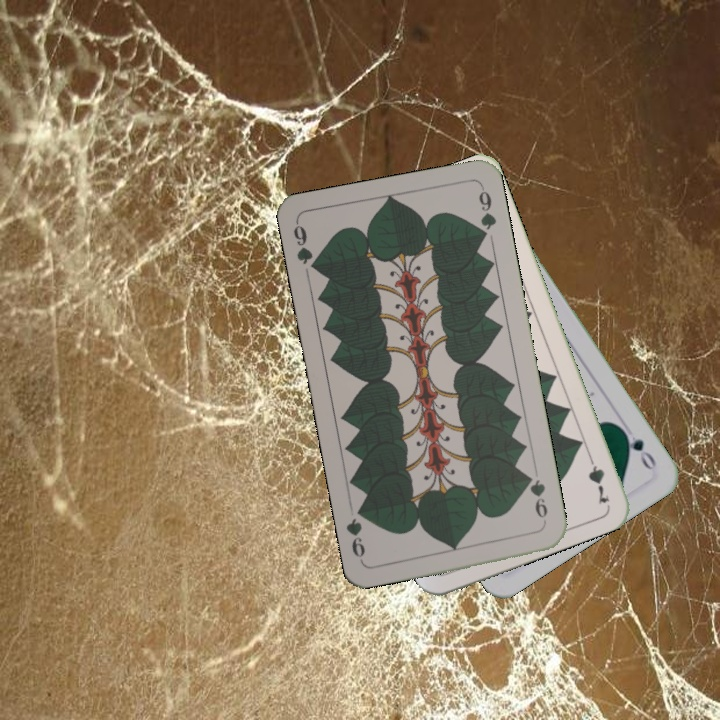G7: (583, 448, 613, 508)
G9: (289, 219, 322, 275), (522, 471, 550, 528)
GO: (616, 424, 659, 474)
